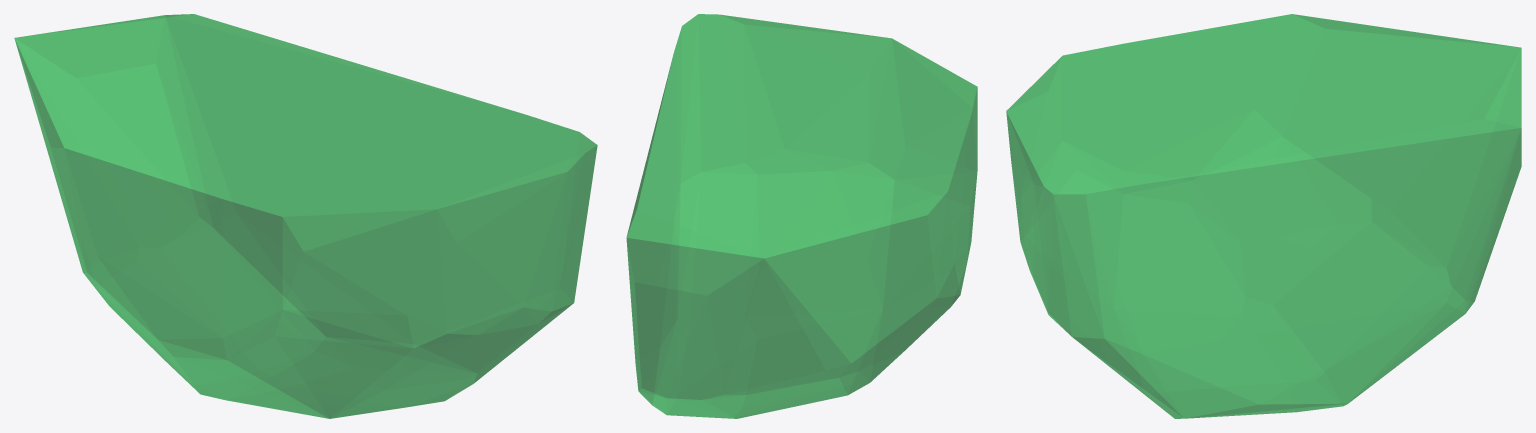
The picture shows the model from 3 angles, left to right: view 1: azimuth 30°, elevation 25°; view 2: azimuth 150°, elevation 25°; view 3: azimuth 270°, elevation 25°; orthographic projection. The views are drawn at different scales.
Visible parts, largest first — view 1: Shape_IndexedFaceSet.001_Shape_IndexedFaceSet.10594; view 2: Shape_IndexedFaceSet.001_Shape_IndexedFaceSet.10594; view 3: Shape_IndexedFaceSet.001_Shape_IndexedFaceSet.10594.
Boxes of the visible parts, left/top/right/bottom form: Shape_IndexedFaceSet.001_Shape_IndexedFaceSet.10594: left=14, top=14, right=597, bottom=418; Shape_IndexedFaceSet.001_Shape_IndexedFaceSet.10594: left=626, top=14, right=977, bottom=418; Shape_IndexedFaceSet.001_Shape_IndexedFaceSet.10594: left=1006, top=14, right=1521, bottom=418.
Size of the model in its own units: 0.0399 by 0.0276 by 0.0482.
